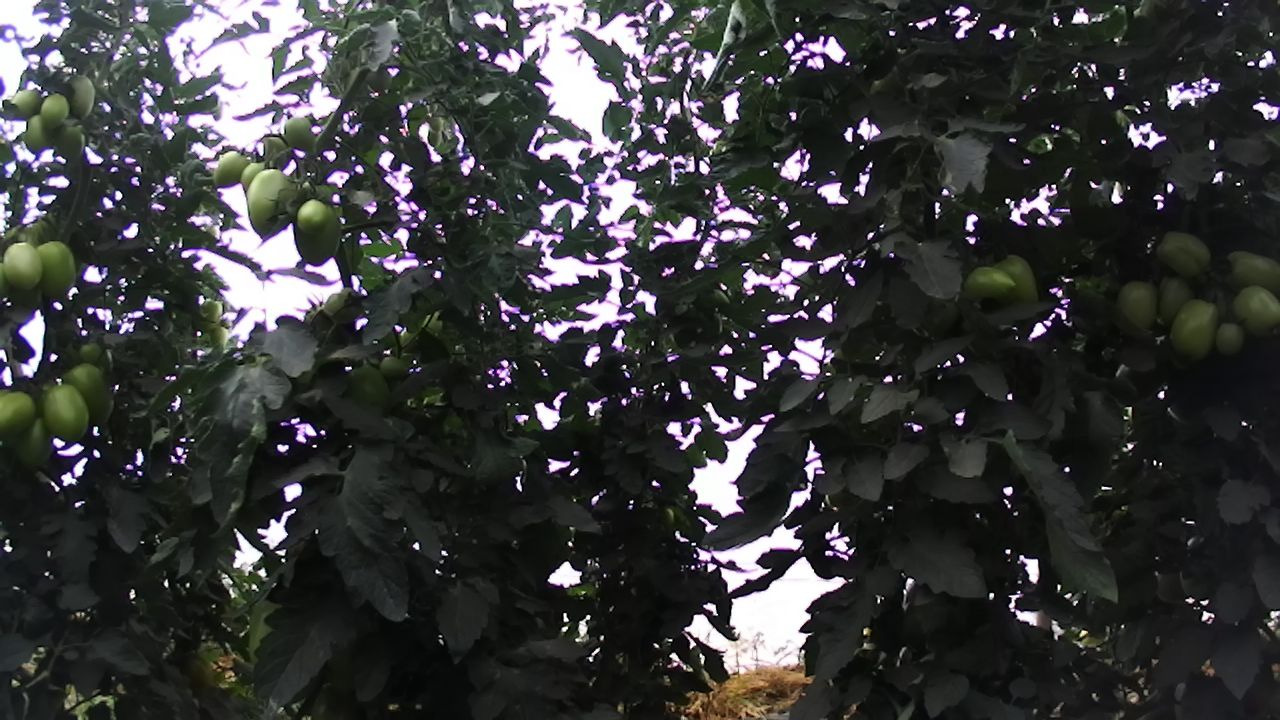tomato: (52, 360, 117, 428), (1168, 292, 1222, 362), (37, 379, 94, 444), (292, 202, 344, 271), (244, 164, 289, 241), (1153, 227, 1214, 282), (29, 239, 78, 301), (1230, 282, 1280, 341), (1116, 278, 1161, 336), (955, 263, 1021, 302), (2, 238, 44, 293), (210, 147, 250, 191), (63, 72, 97, 121), (1210, 317, 1250, 358), (0, 390, 36, 435), (293, 194, 330, 236), (36, 91, 69, 128)
